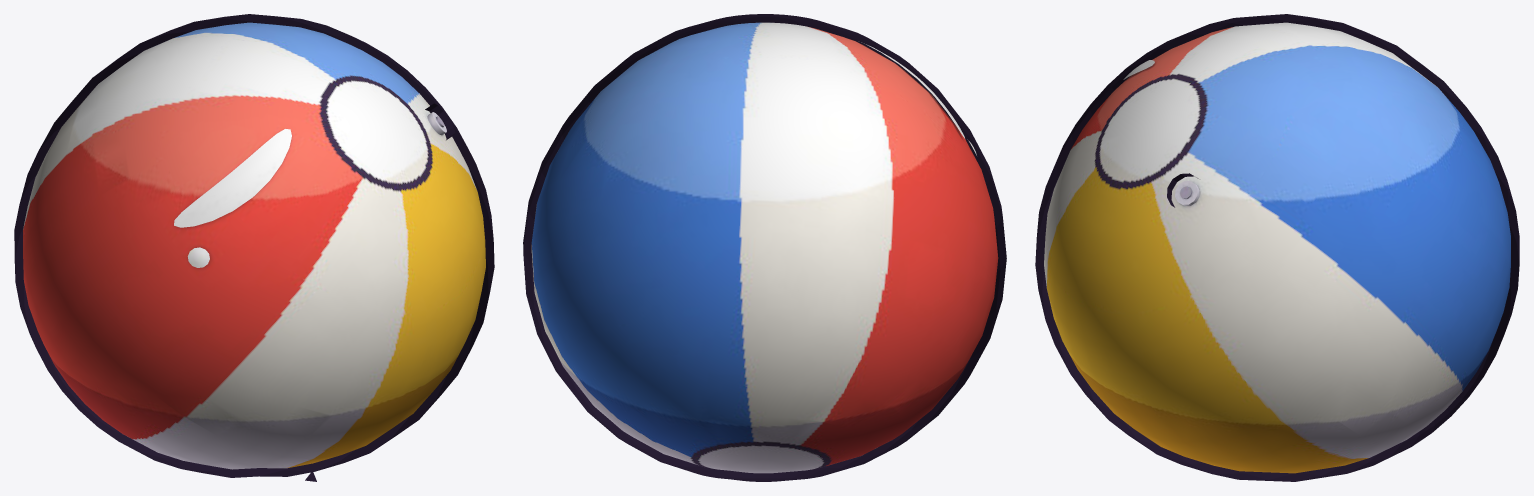
The model's file is BeachBall.glb.
3 renders of one model, left to right at view 1: azimuth 30°, elevation 25°; view 2: azimuth 150°, elevation 25°; view 3: azimuth 270°, elevation 25°, orthographic.
Parts seen in each view (by area): view 1: BeachBall, BeachBall_Outline; view 2: BeachBall, BeachBall_Outline; view 3: BeachBall, BeachBall_Outline.
Boxes of the visible parts, x1,y1,x2,y2 form: BeachBall: (23,22,485,469); BeachBall_Outline: (14,14,494,477); BeachBall: (531,22,998,473); BeachBall_Outline: (523,14,1006,481); BeachBall: (1044,22,1510,473); BeachBall_Outline: (1035,14,1519,481).
Bounding box in the file's own units: 4.23 × 3.94 × 4.22.
2 materials, 2 textured.
